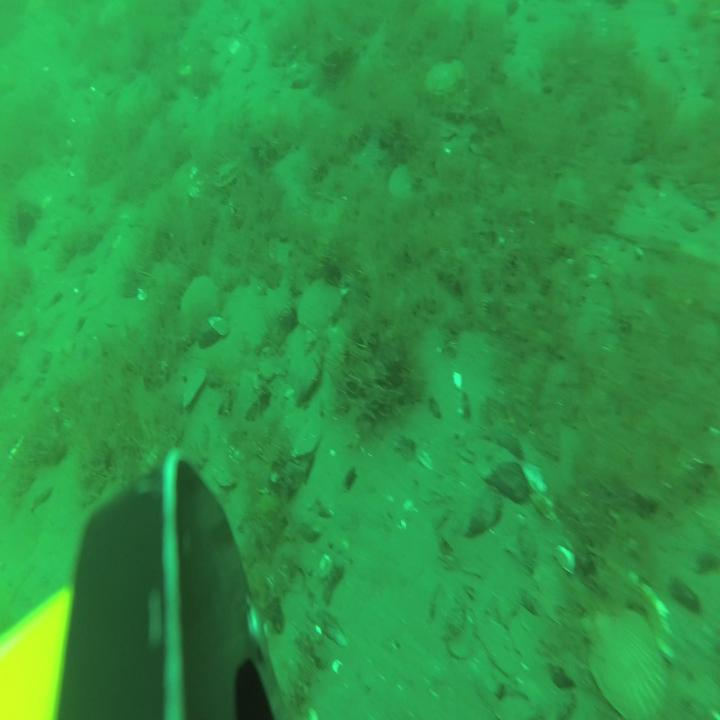scallop: (581, 599, 671, 720), (296, 275, 342, 344), (180, 272, 224, 342), (424, 54, 468, 101), (386, 158, 422, 206), (212, 152, 250, 194)
